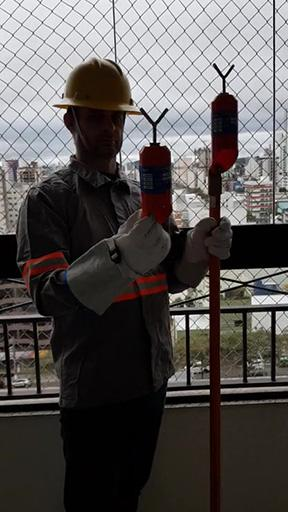Detector_Tensao_Contato: (141, 105, 171, 225), (210, 60, 239, 174)
Vara_Manobra: (206, 174, 224, 512)
